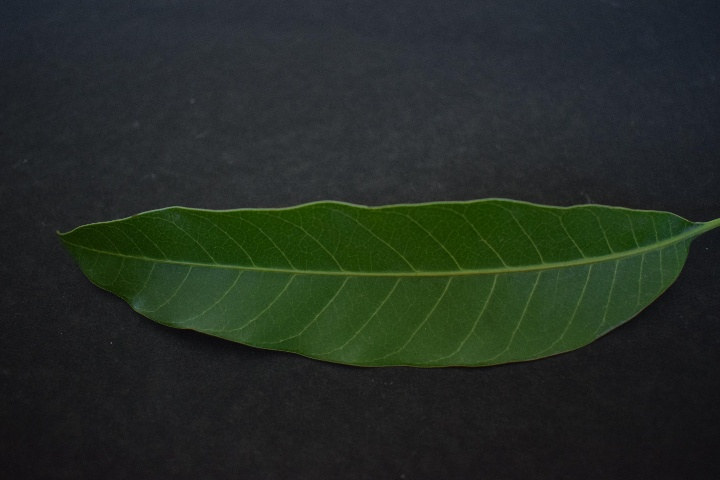healthy: (77, 185, 681, 364)
